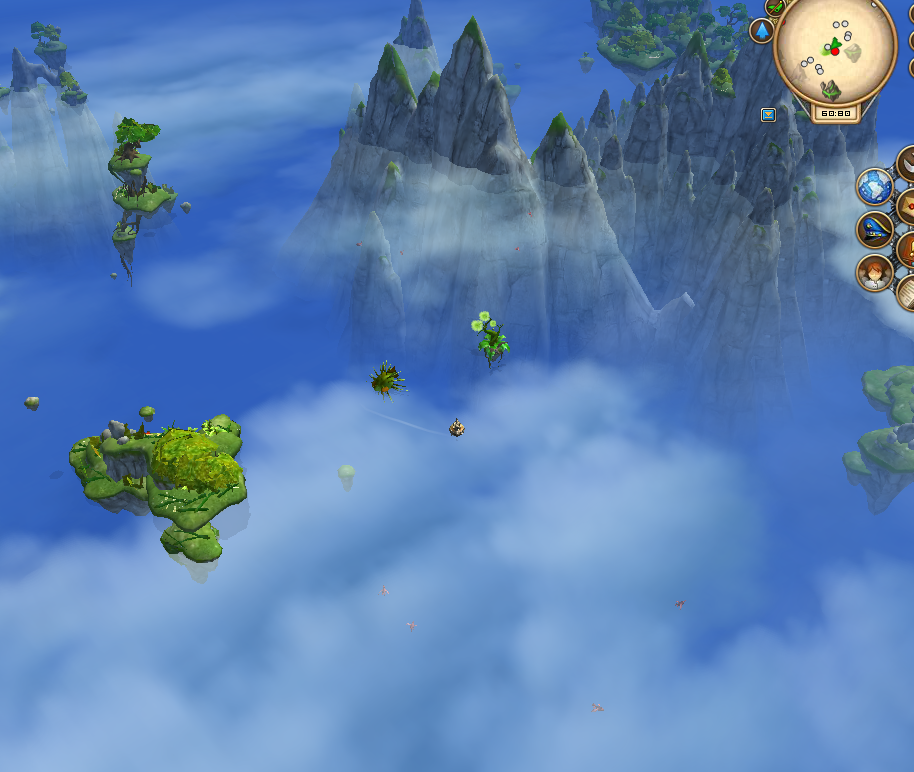dandelion-full: (466, 305, 514, 369)
